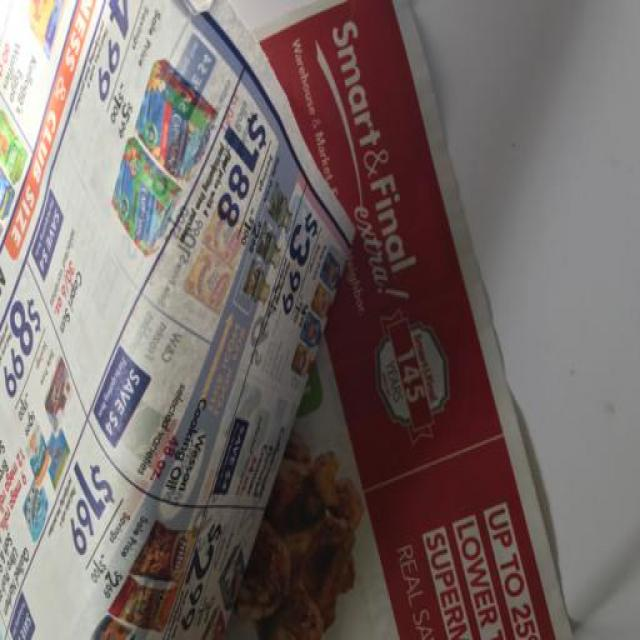paper: (1, 2, 595, 640)
